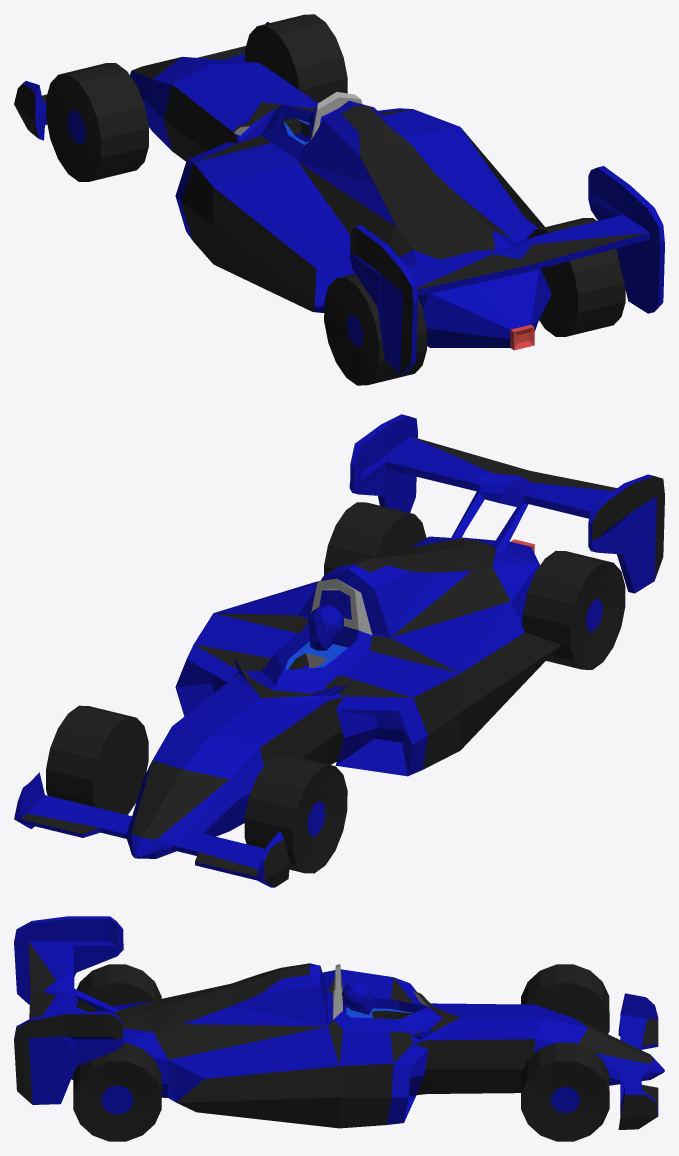
File: carf1.glb
3 renders of one model, top to bottom at view 1: azimuth 30°, elevation 25°; view 2: azimuth 150°, elevation 25°; view 3: azimuth 270°, elevation 25°, orthographic. The views are drawn at different scales.
Visible parts, largest first — view 1: WheelFront.011, WheelFront.001, WheelFront.003, WheelFront.000, WheelFront.002; view 2: WheelFront.011, WheelFront.001, WheelFront.002, WheelFront.000, WheelFront.003; view 3: WheelFront.011, WheelFront.000, WheelFront.003, WheelFront.001, WheelFront.002.
Part boxes in pixels (x1=…): WheelFront.011: x1=14, y1=22, x2=664, y2=373; WheelFront.001: x1=46, y1=63, x2=148, y2=181; WheelFront.003: x1=527, y1=218, x2=625, y2=336; WheelFront.000: x1=245, y1=14, x2=347, y2=102; WheelFront.002: x1=324, y1=273, x2=426, y2=385; WheelFront.011: x1=14, y1=414, x2=664, y2=887; WheelFront.001: x1=244, y1=754, x2=347, y2=873; WheelFront.002: x1=522, y1=550, x2=625, y2=669; WheelFront.000: x1=46, y1=705, x2=148, y2=814; WheelFront.003: x1=324, y1=502, x2=426, y2=575; WheelFront.011: x1=14, y1=916, x2=664, y2=1129; WheelFront.000: x1=521, y1=1042, x2=609, y2=1141; WheelFront.003: x1=73, y1=1042, x2=161, y2=1141; WheelFront.001: x1=521, y1=964, x2=609, y2=1033; WheelFront.002: x1=76, y1=964, x2=161, y2=1011.
Bounding box in the file's own units: 0.3311 × 0.1973 × 0.9104.
